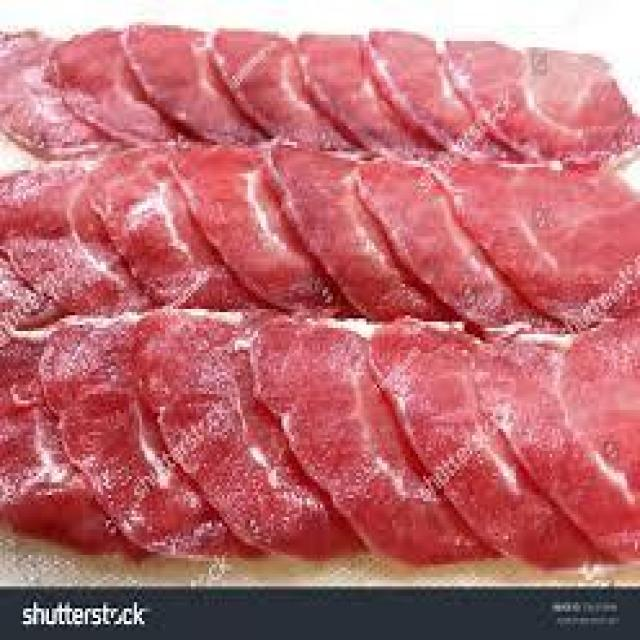Wet Waste: (55, 161, 554, 317)
